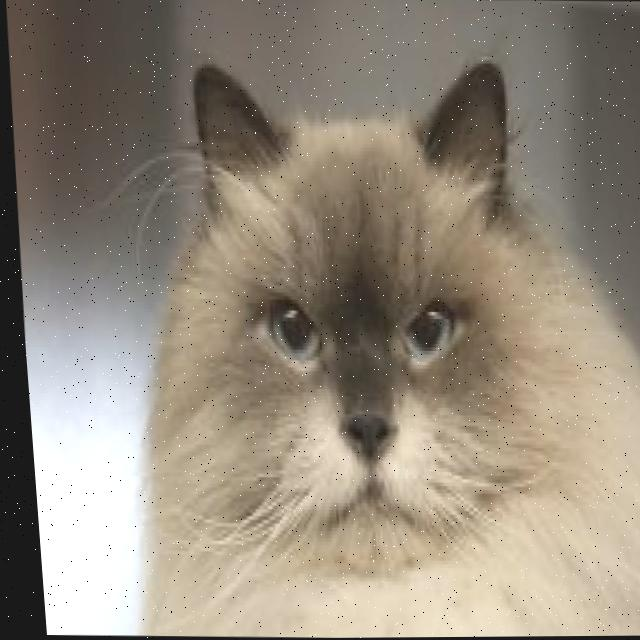Ragdoll: (92, 42, 640, 639)
